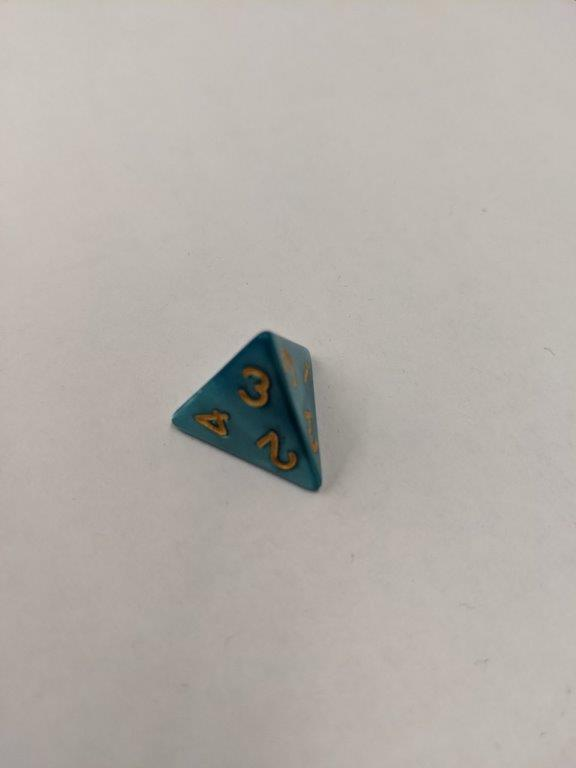d4-3: (168, 328, 329, 500)
